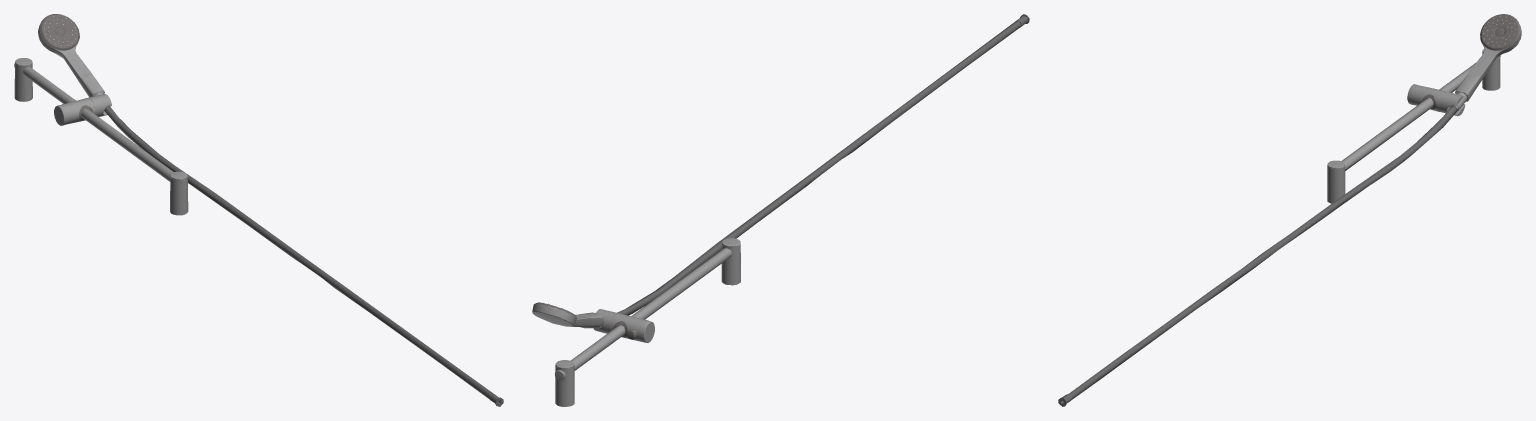
File: VALLAMOSSE Barre avec douchette haut réglable chromé-scene-512.glb
The picture shows the model from 3 angles, left to right: view 1: azimuth 30°, elevation 25°; view 2: azimuth 150°, elevation 25°; view 3: azimuth 330°, elevation 25°; orthographic projection. The views are drawn at different scales.
Visible parts, largest first — view 1: 10349660-VALLAMOSSE002; view 2: 10349660-VALLAMOSSE002; view 3: 10349660-VALLAMOSSE002.
Boxes of the visible parts, <box> form: 10349660-VALLAMOSSE002: <box>14,14,503,406</box>; 10349660-VALLAMOSSE002: <box>532,14,1029,406</box>; 10349660-VALLAMOSSE002: <box>1058,14,1521,406</box>.
Size of the model in its own units: 0.137 by 0.171 by 1.73.
2 materials, 2 textured.
